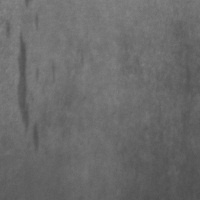inclusion: (11, 26, 50, 155)
